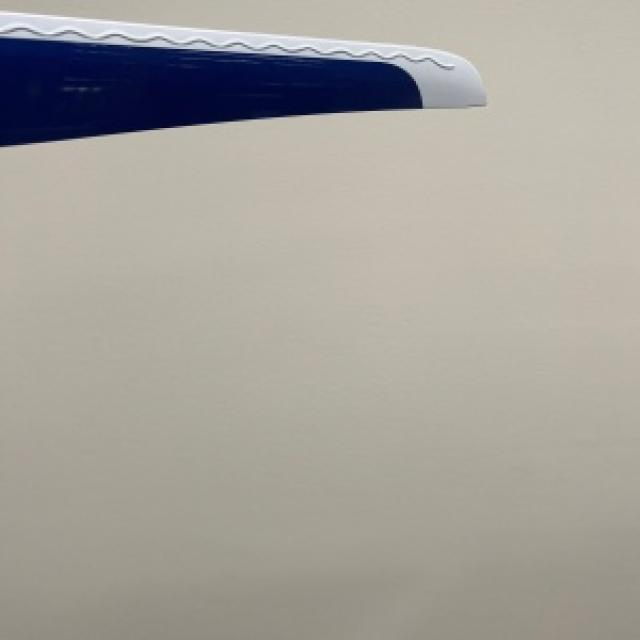healthy: (0, 11, 484, 141)
